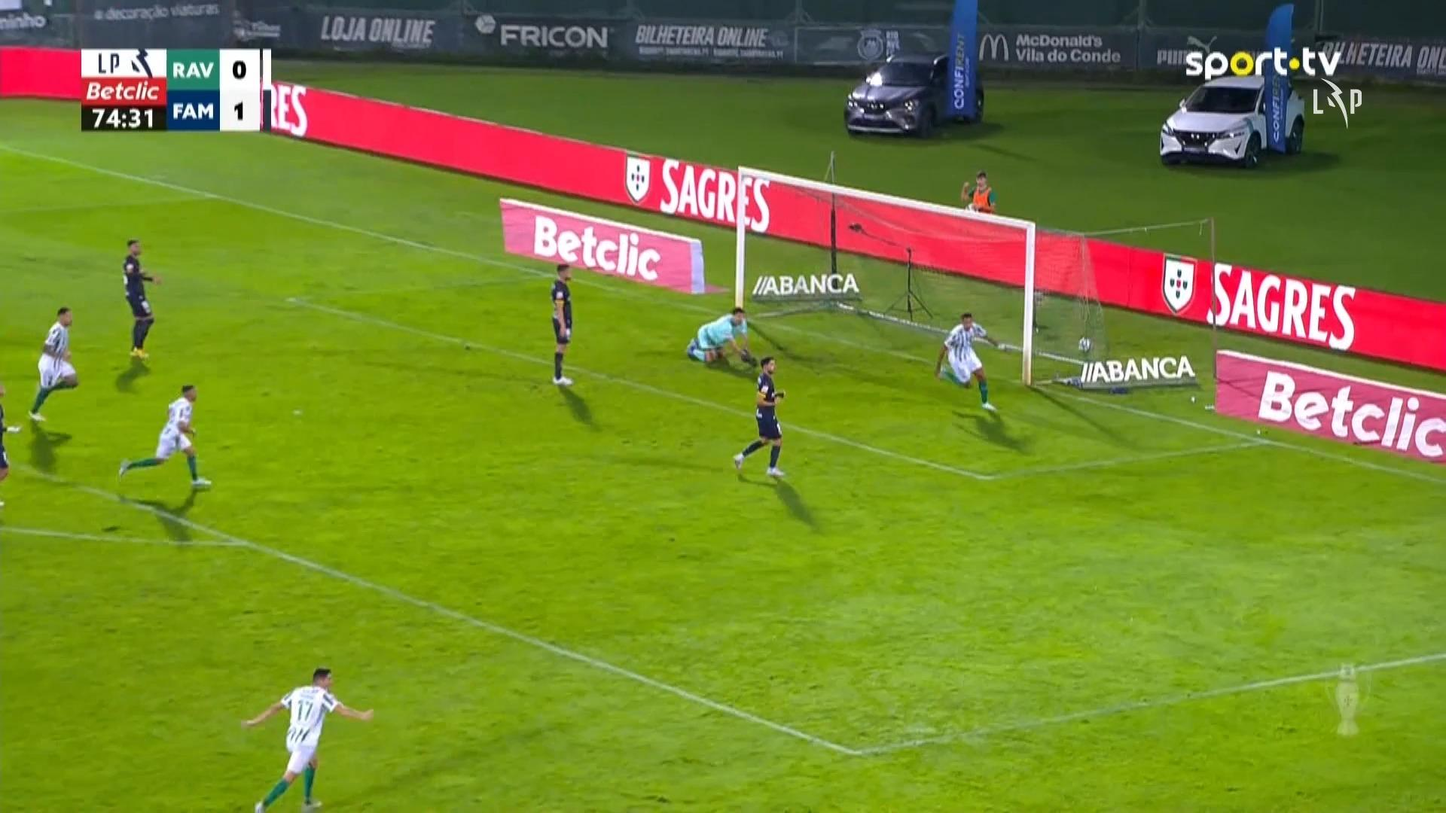goalkeeper: (685, 306, 757, 368)
player: (239, 666, 374, 811), (117, 382, 212, 489), (731, 355, 786, 478), (933, 311, 1000, 411), (27, 306, 79, 422), (121, 238, 161, 359), (549, 261, 574, 385), (0, 384, 20, 505)
